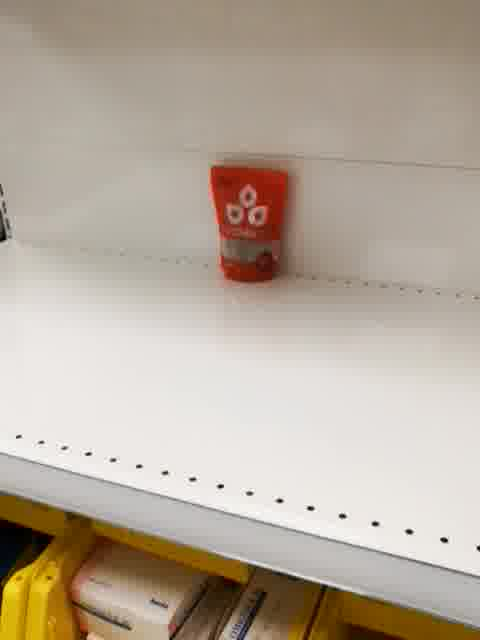whitechia: (209, 164, 292, 285)
